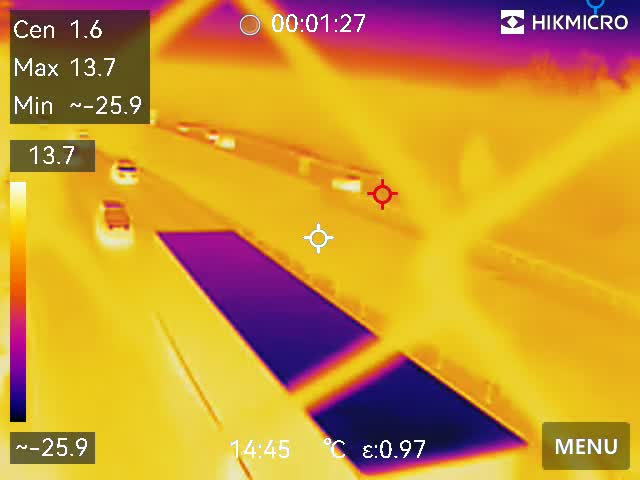heavyTruck: (147, 213, 538, 480)
largeCar: (97, 188, 134, 236)
vehicle: (110, 151, 140, 190), (329, 172, 366, 195), (199, 130, 227, 145)
